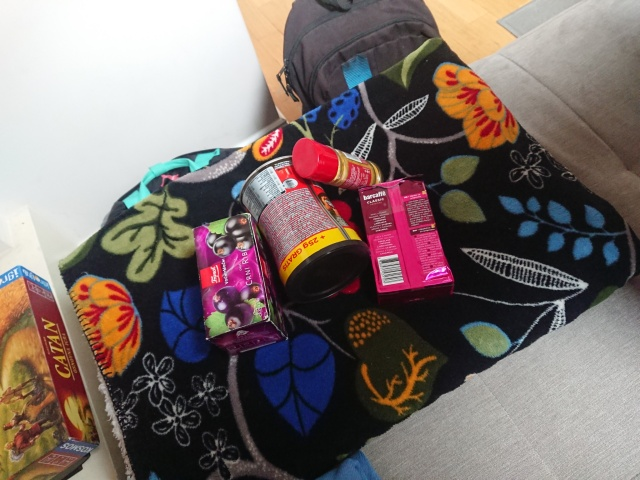Barcaffe Classic Original 225g: (355, 171, 458, 311)
Franck Black Currant Tea 60g: (189, 211, 291, 359)
Kotanyi Curry Spices Mix 70g: (290, 136, 385, 197)
Nescafe Classic 225g: (236, 151, 372, 307)
